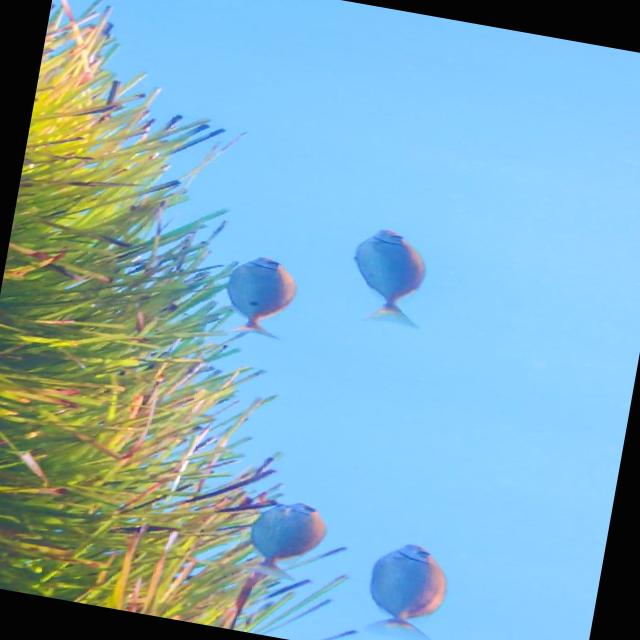Sokar Baligi: (218, 484, 353, 596), (339, 527, 470, 640), (330, 218, 448, 340), (197, 240, 321, 354)
